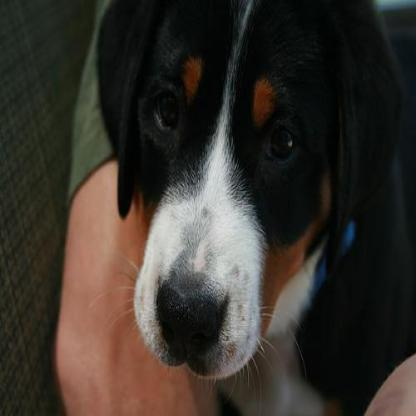Greater_Swiss_Mountain_dog: (90, 0, 414, 412)
